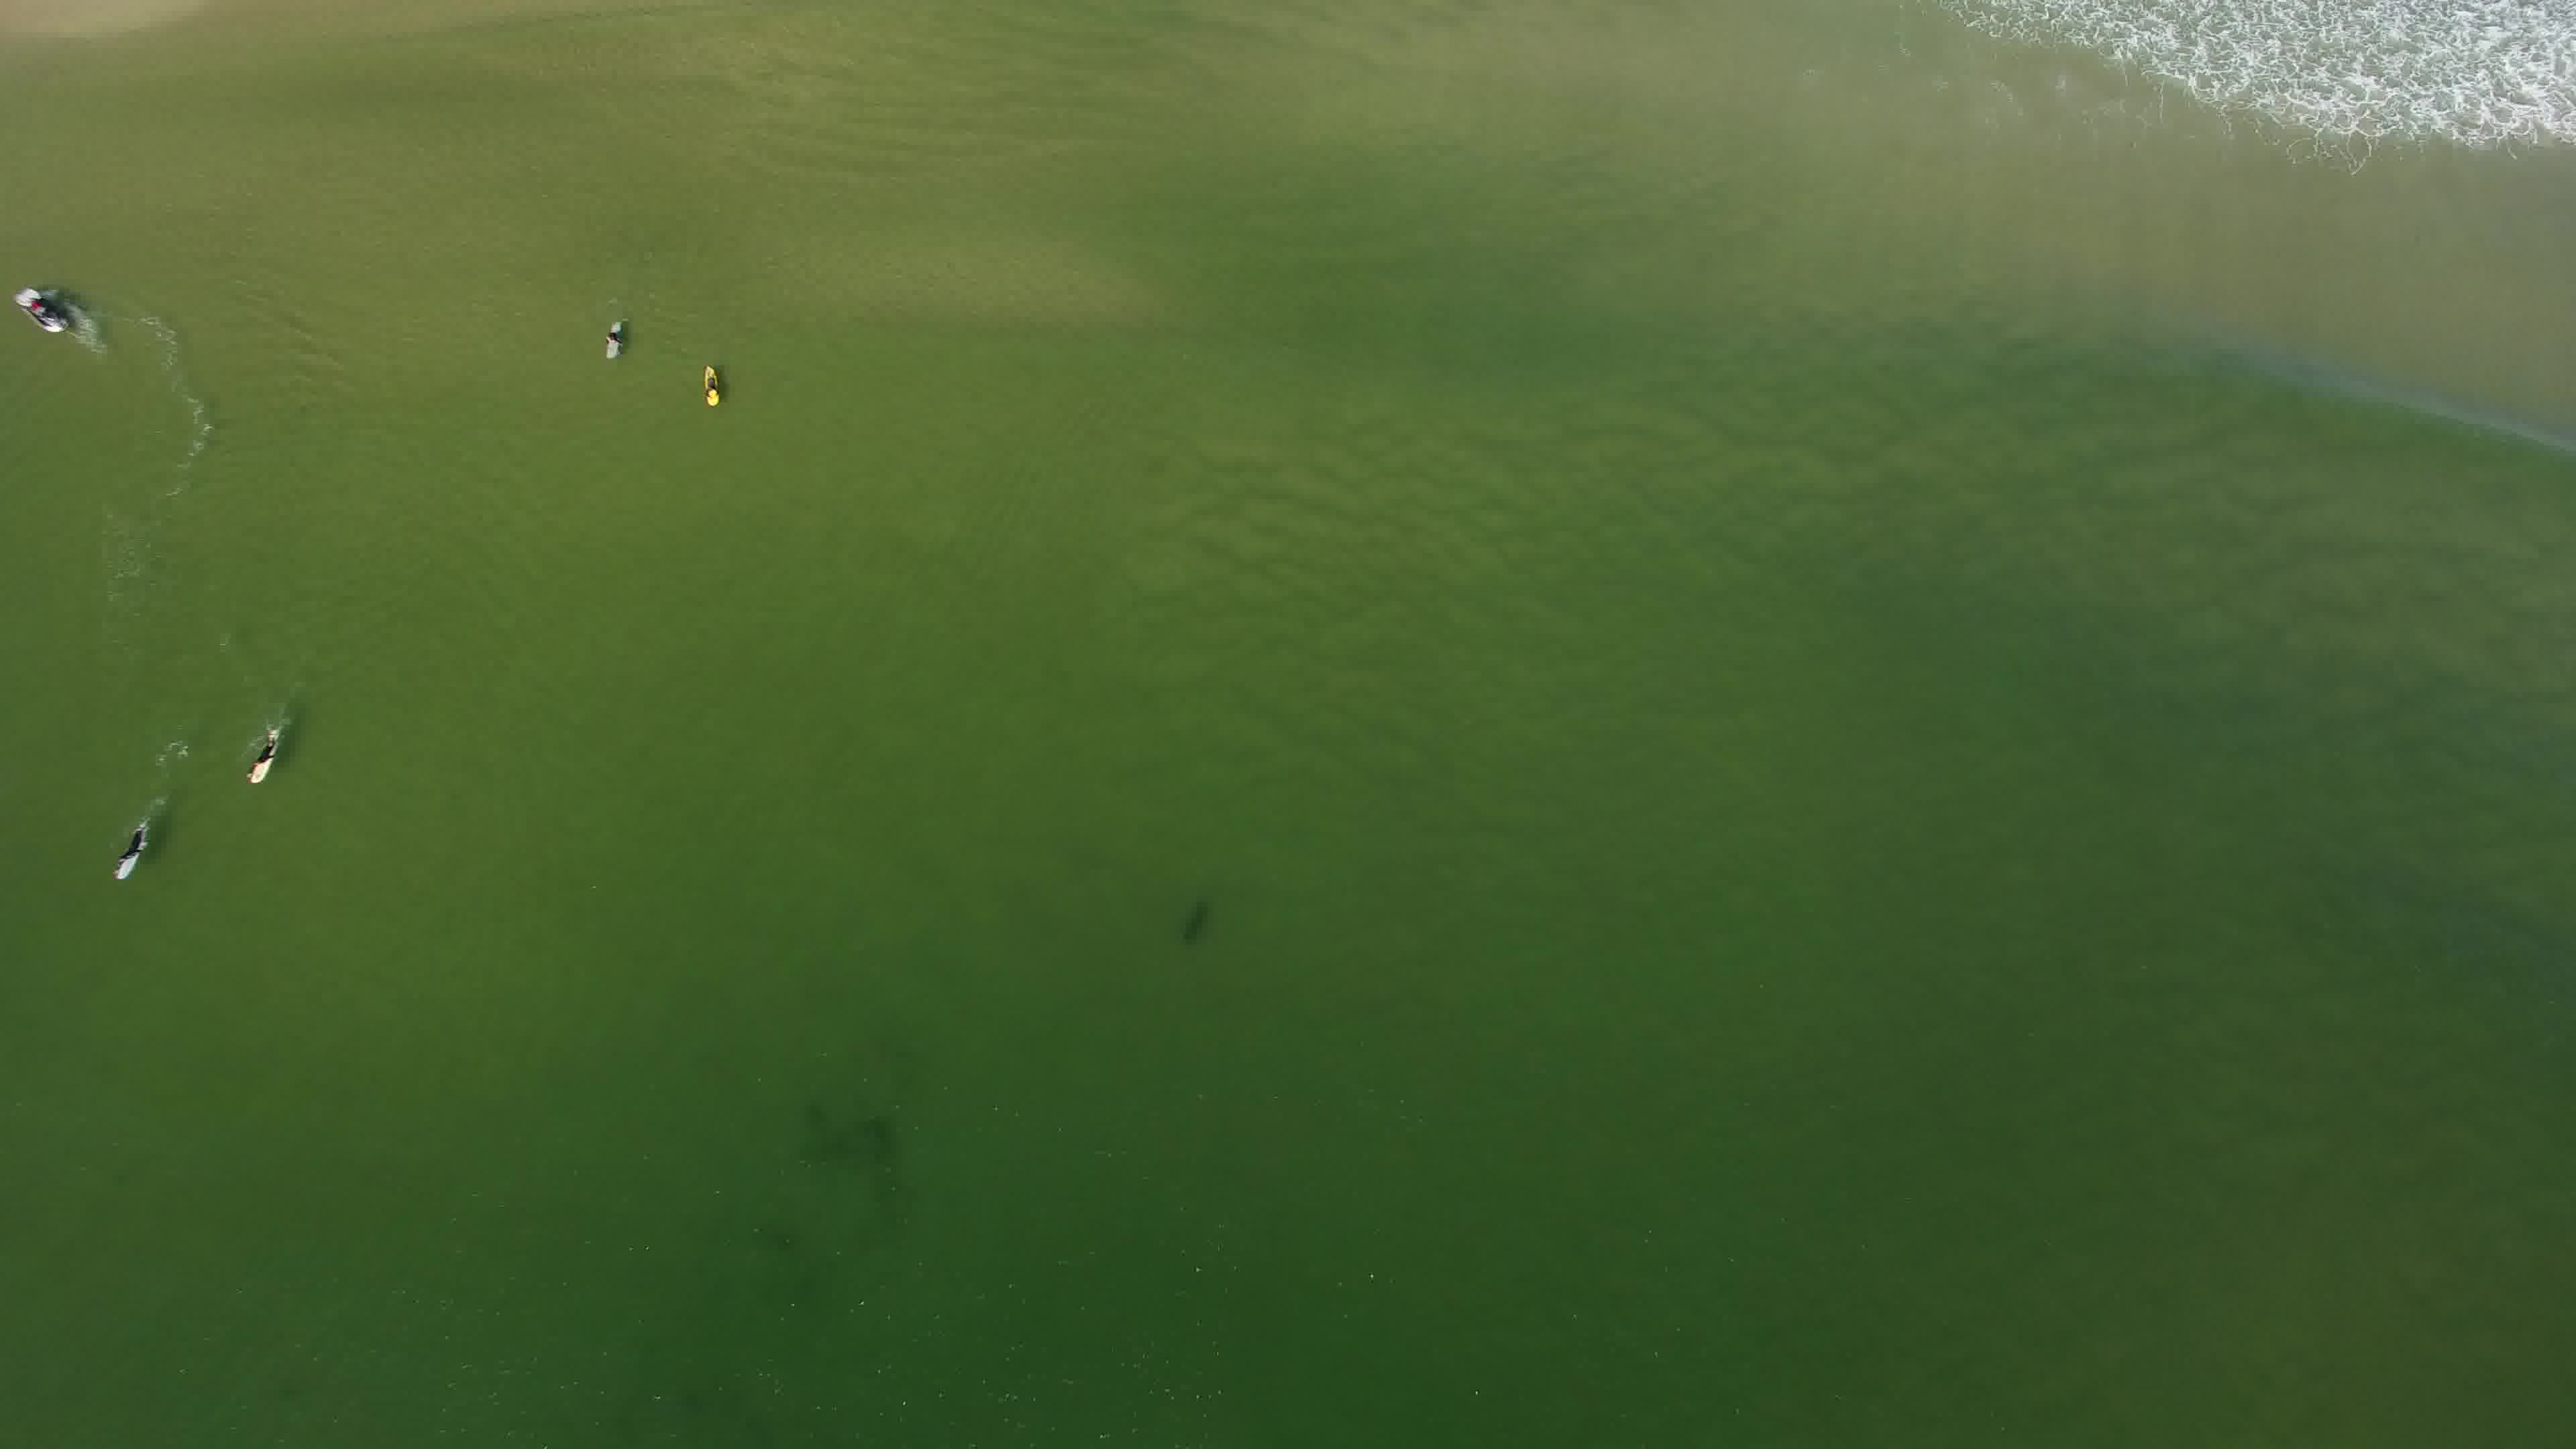surfer: (104, 805, 166, 888), (239, 717, 288, 787), (593, 304, 633, 375), (697, 361, 734, 410)
